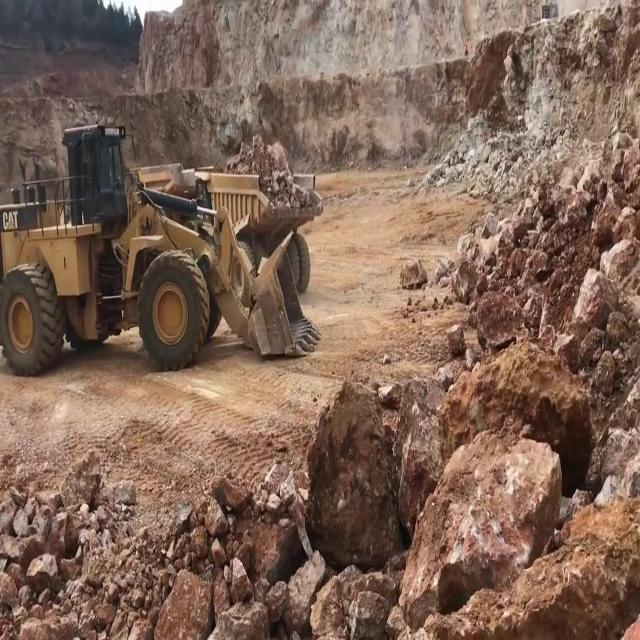Dump Truck: (195, 162, 319, 290)
Loader: (0, 122, 322, 375)
